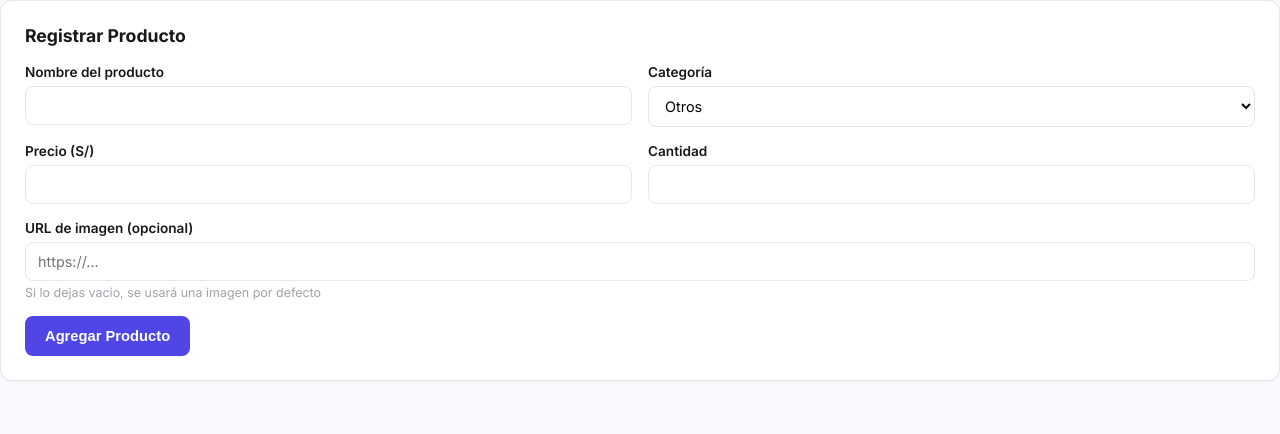
Test case: ProductForm › no permite enviar el formulario vacío y muestra errores
The width and height of the screenshot is (1280, 434).
Click the button "Agregar Producto" at (108, 336), box [25, 316, 190, 356]
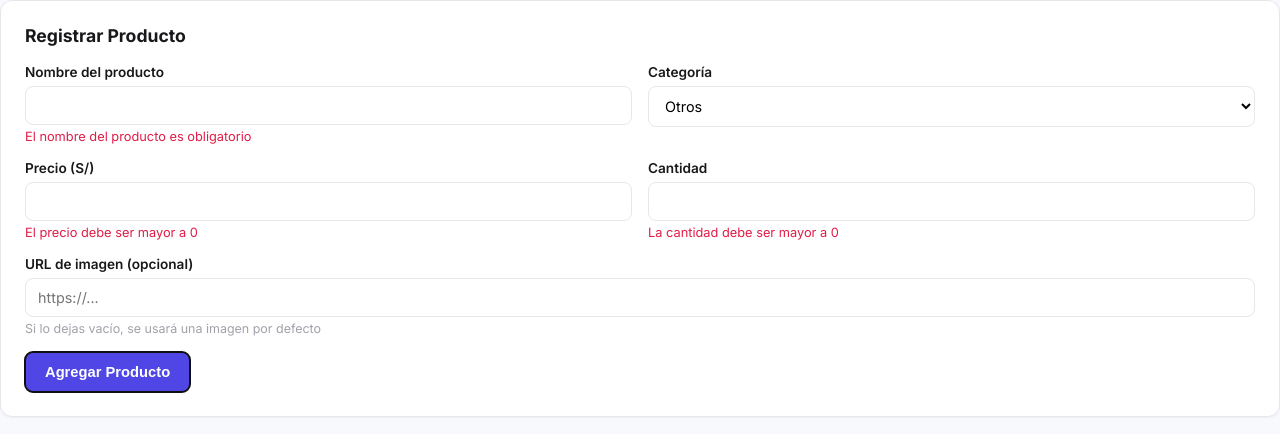
Expected: the text "El nombre del producto es obligatorio" is shown, [25, 129, 252, 144]
Expected: the text "El precio debe ser mayor a 0" is shown, [25, 225, 198, 240]
Expected: the text "La cantidad debe ser mayor a 0" is shown, [648, 225, 839, 240]
